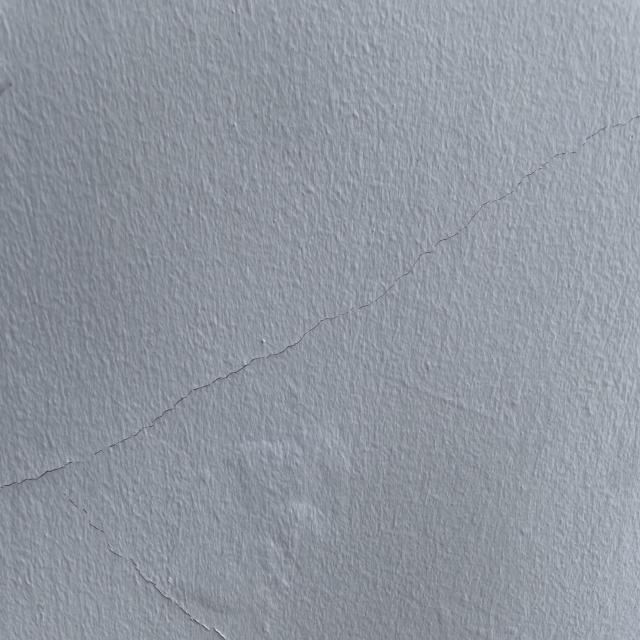Crack: (1, 82, 640, 535)
